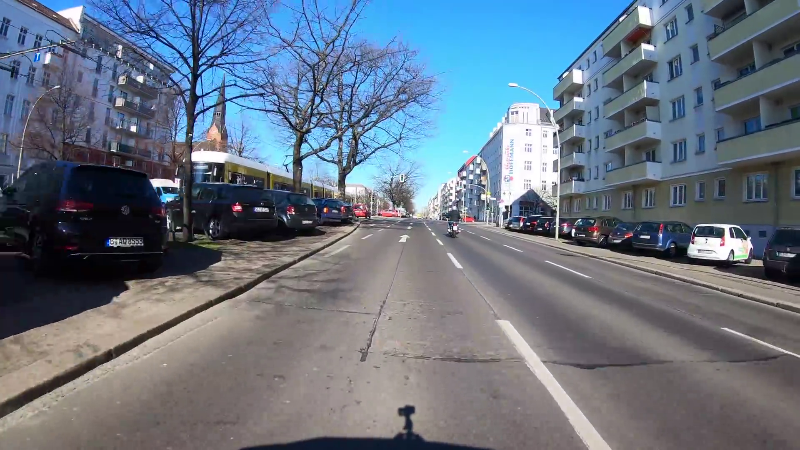Plate: (104, 234, 146, 248), (775, 250, 797, 259), (694, 248, 717, 255), (251, 206, 269, 213), (638, 233, 652, 240), (302, 219, 312, 224)
